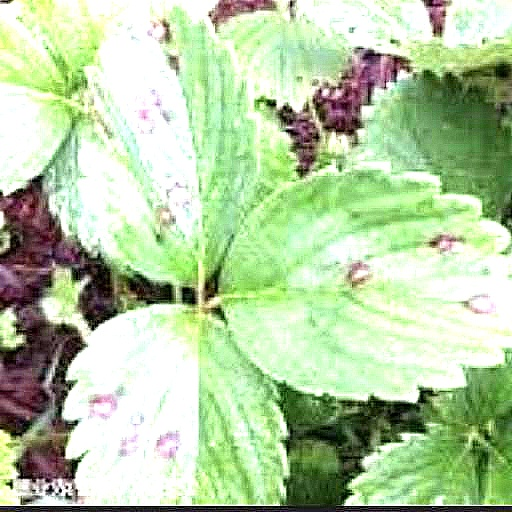Leaf Spot: (0, 159, 296, 404), (250, 0, 474, 290), (220, 303, 452, 506)
